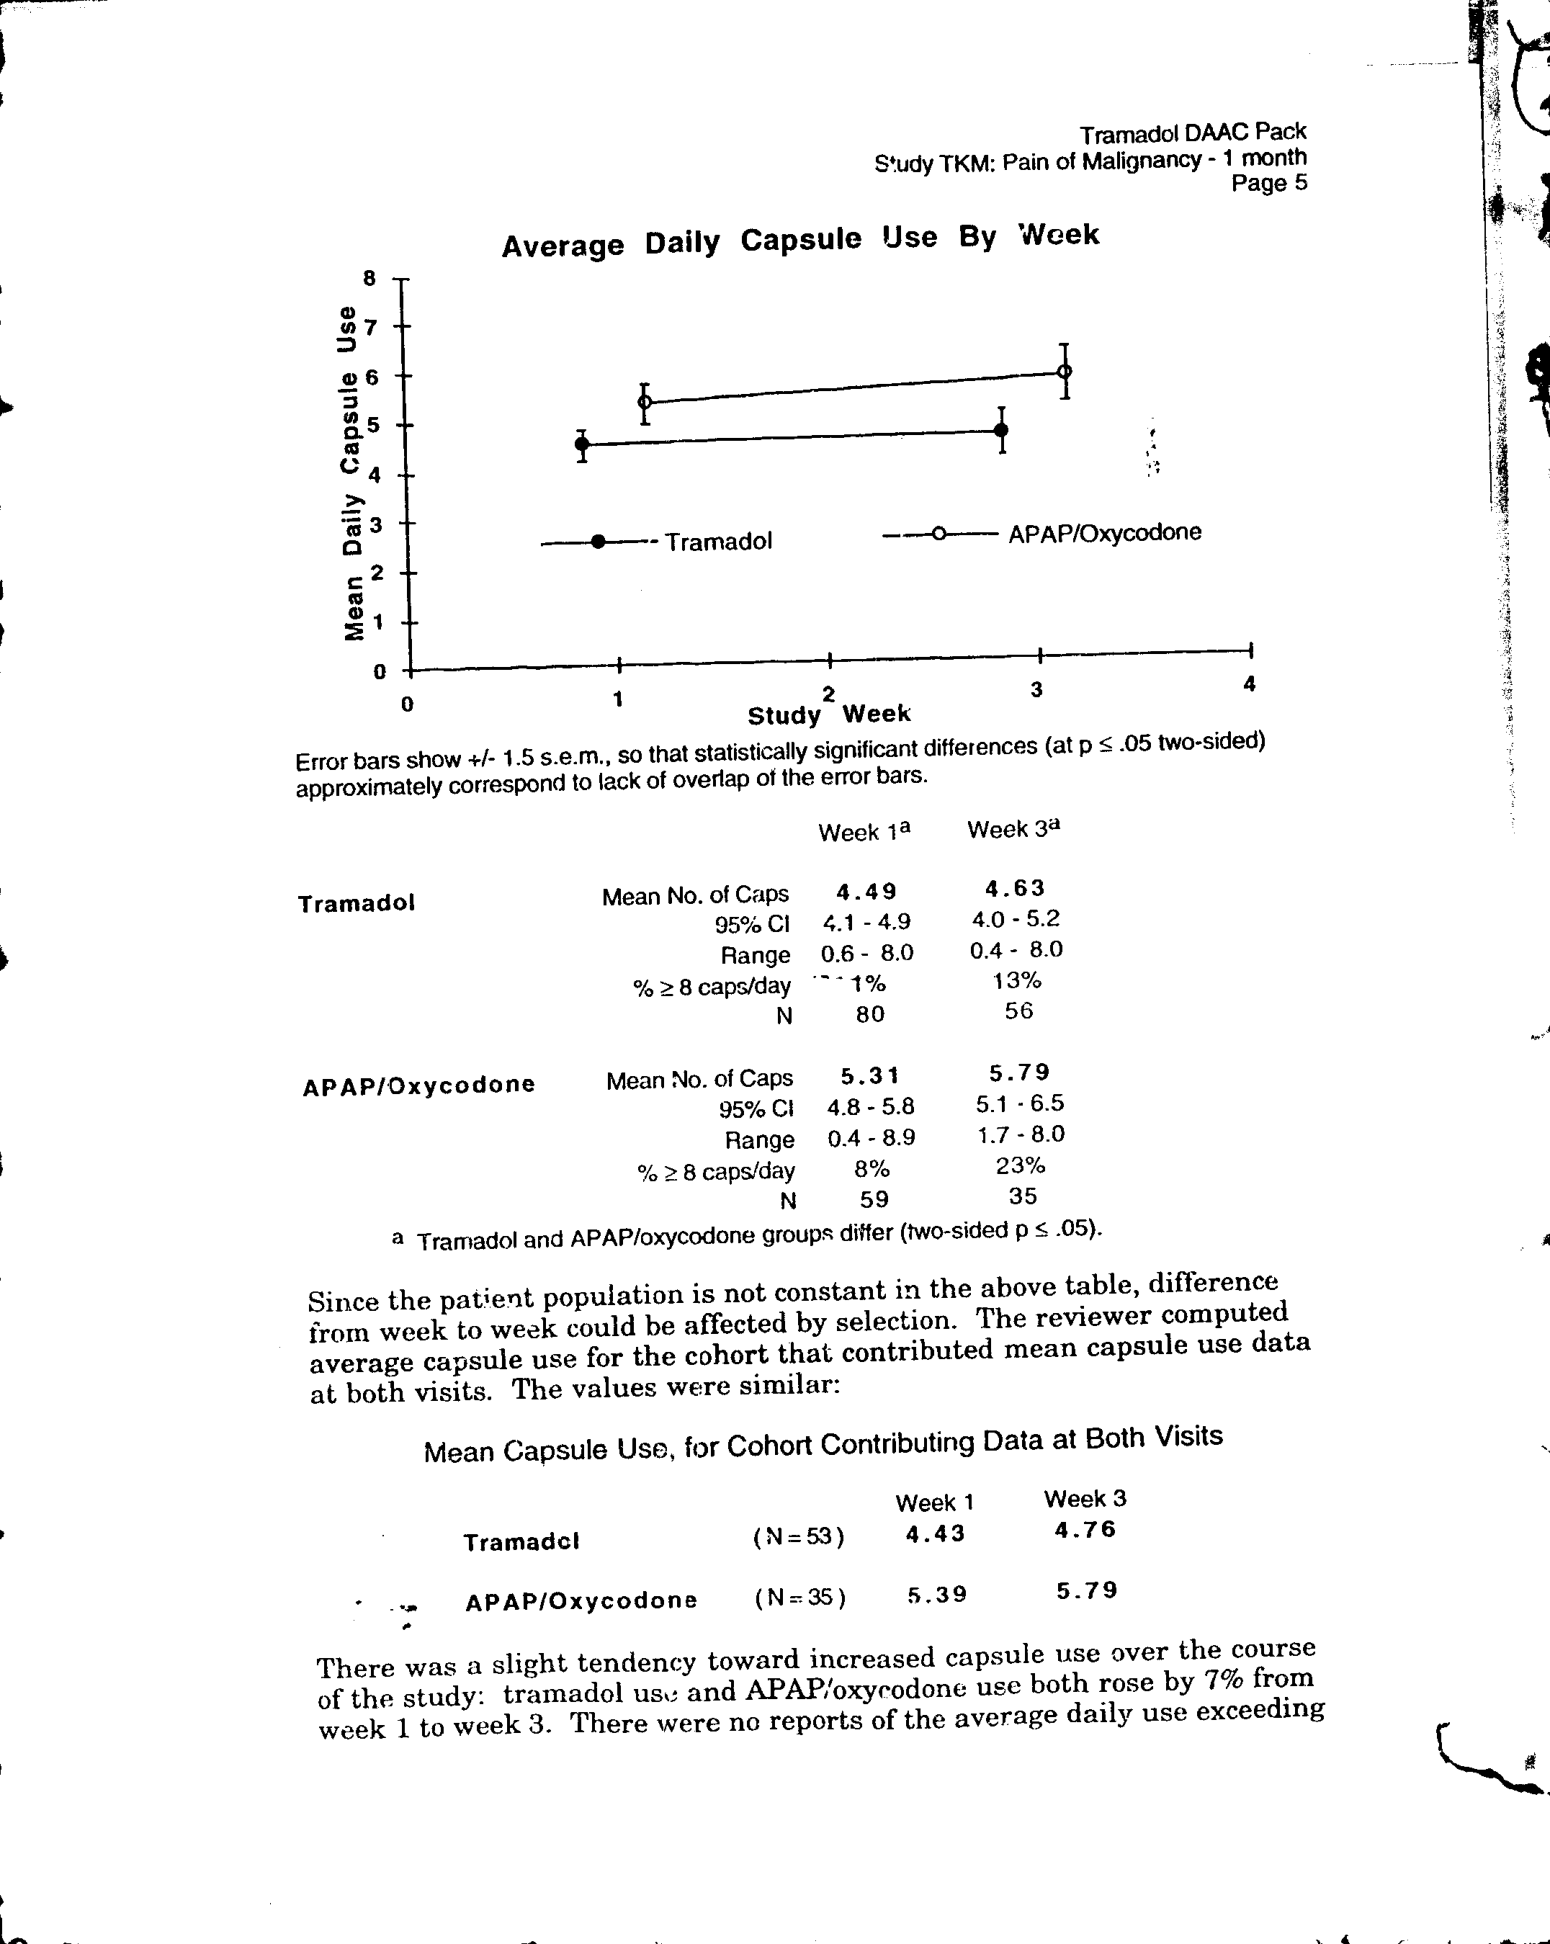nolines: (297, 810, 1069, 1208), (463, 1482, 1129, 1609)
